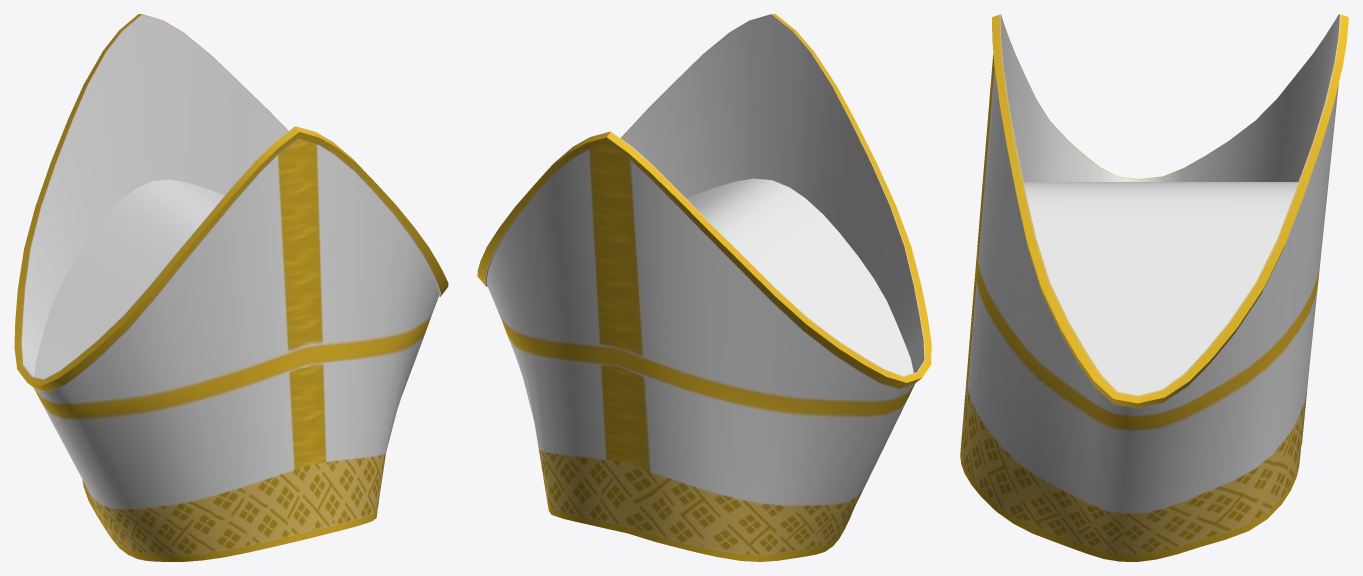
File: Pope.glb
3 views of the same model, side by side, from view 1: azimuth 30°, elevation 25°; view 2: azimuth 150°, elevation 25°; view 3: azimuth 270°, elevation 25° (orthographic). The views are drawn at different scales.
Parts seen in each view (by area): view 1: Pope; view 2: Pope; view 3: Pope.
Part boxes in pixels (left/top/right/bottom): Pope: left=14, top=14, right=448, bottom=561; Pope: left=477, top=14, right=931, bottom=561; Pope: left=960, top=14, right=1348, bottom=561.
Bounding box in the file's own units: 1.51 × 1.55 × 1.11.
1 material, 1 textured.
